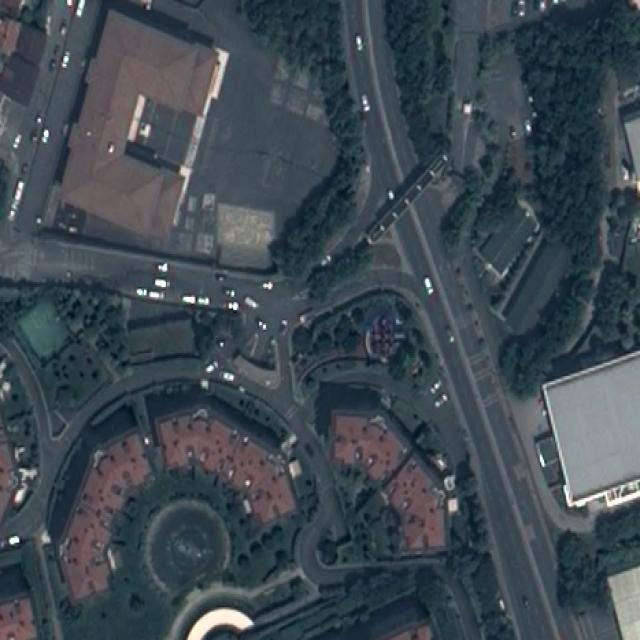Batiment: (61, 9, 215, 240), (158, 409, 295, 524), (60, 433, 150, 600), (542, 352, 640, 500), (385, 460, 445, 553), (334, 412, 409, 481), (0, 23, 46, 103), (609, 568, 640, 639), (0, 597, 35, 639), (1, 429, 14, 521)
